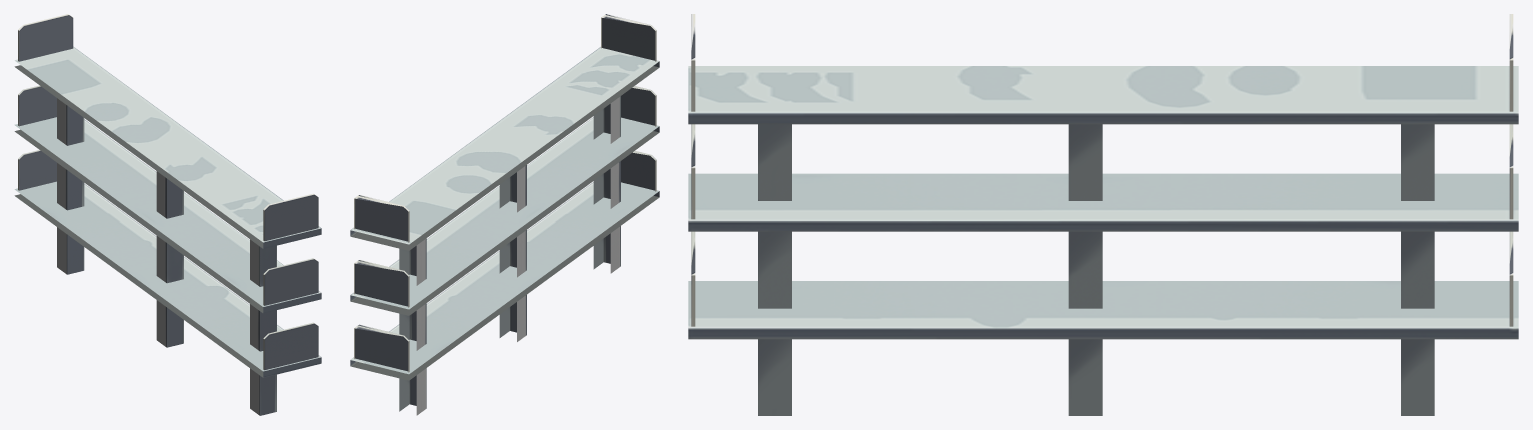
The model's file is Tx_props_shelf_10.fbx.
The picture shows the model from 3 angles, left to right: view 1: azimuth 30°, elevation 25°; view 2: azimuth 150°, elevation 25°; view 3: azimuth 270°, elevation 25°; orthographic projection. The views are drawn at different scales.
Visible parts, largest first — view 1: Tx_props_shelf_7; view 2: Tx_props_shelf_7; view 3: Tx_props_shelf_7.
Part boxes in pixels (x1,y1,x2,y2): Tx_props_shelf_7: [14, 14, 321, 415]; Tx_props_shelf_7: [350, 14, 659, 415]; Tx_props_shelf_7: [688, 14, 1518, 415].
Bounding box in the file's own units: 1.54 × 5.72 × 11.34.
